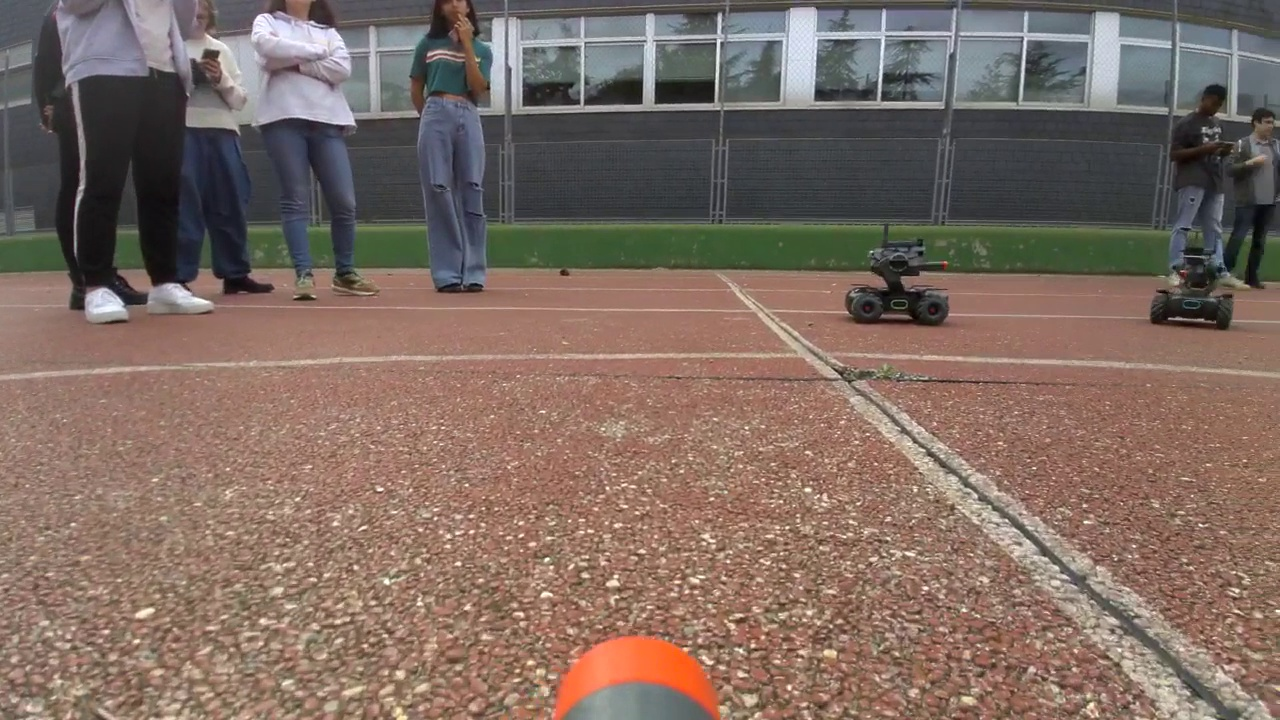robot: (845, 239, 949, 326), (1150, 249, 1234, 328)
